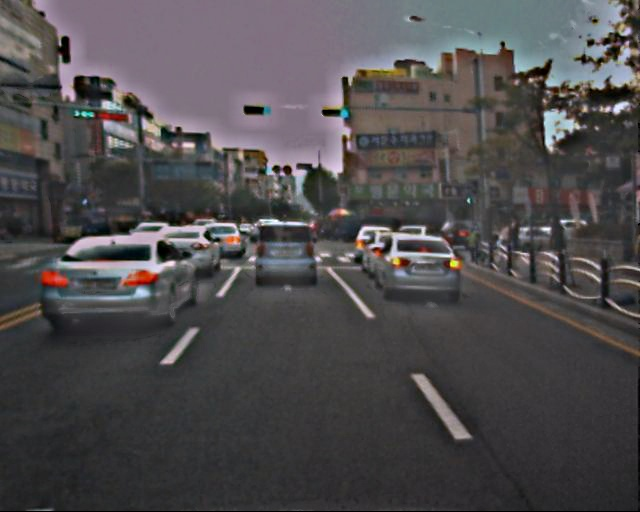person: (468, 225, 484, 264), (508, 216, 524, 254), (545, 215, 560, 252)
